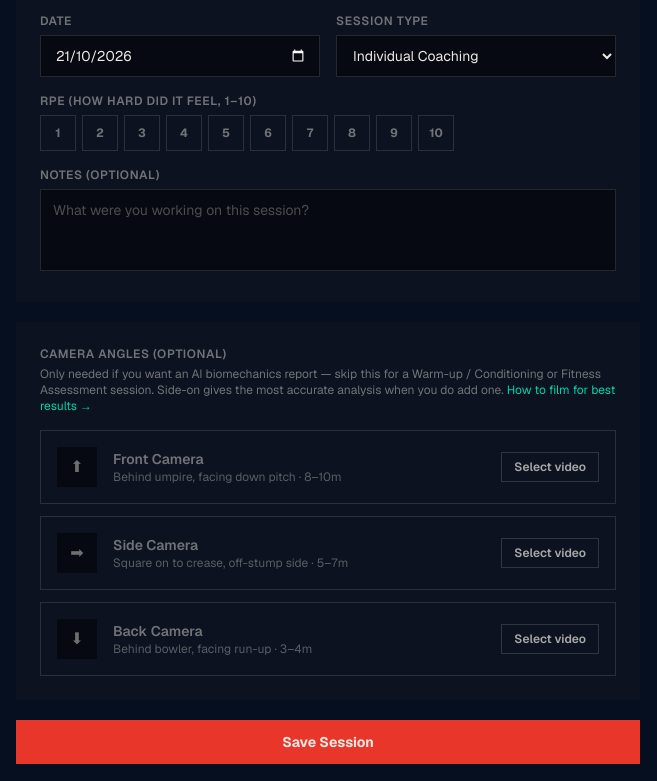
it: PortalLogSessionClient › allows submitting with no video selected, and skips the report pipeline
(page scrolled)
Check: the text "Side Camera" is shown, box [113, 536, 198, 554]
Click the button "Save Session". click: (328, 742)
box: [16, 720, 640, 764]
(page scrolled)
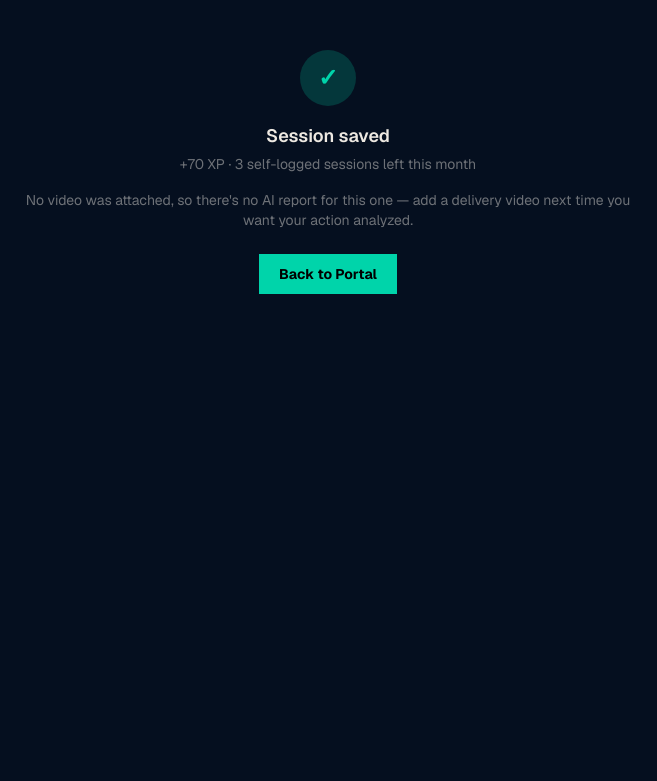
Check: the text "Session saved" is shown, box [266, 124, 390, 147]
Check: the text "No video was attached" is shown, box [26, 191, 630, 229]
